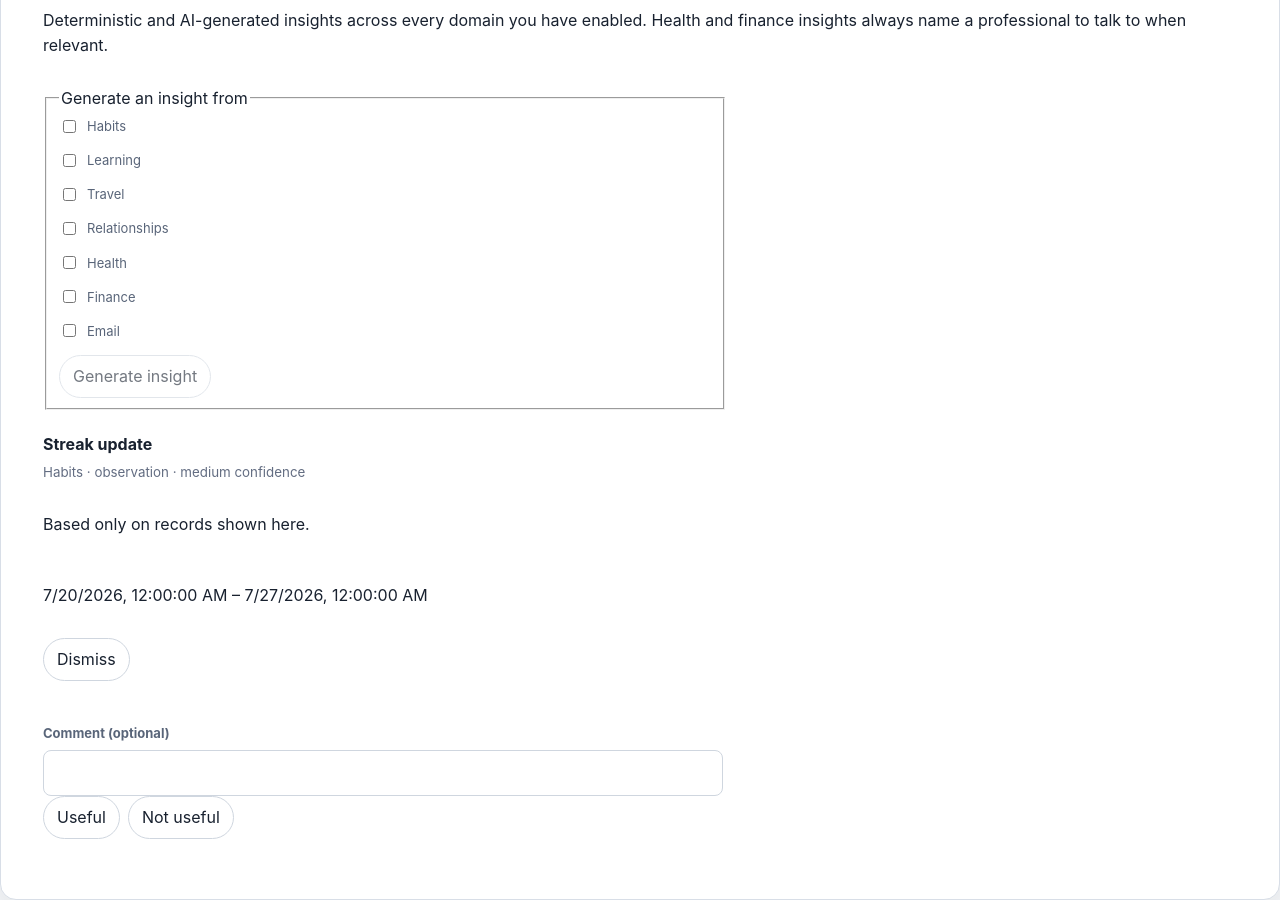
it: InsightsPanel › submits feedback for an insight
The width and height of the screenshot is (1280, 900).
(page scrolled)
Step 1. Click the button "Useful" → [81, 817], box [43,796,120,839]
(page scrolled)
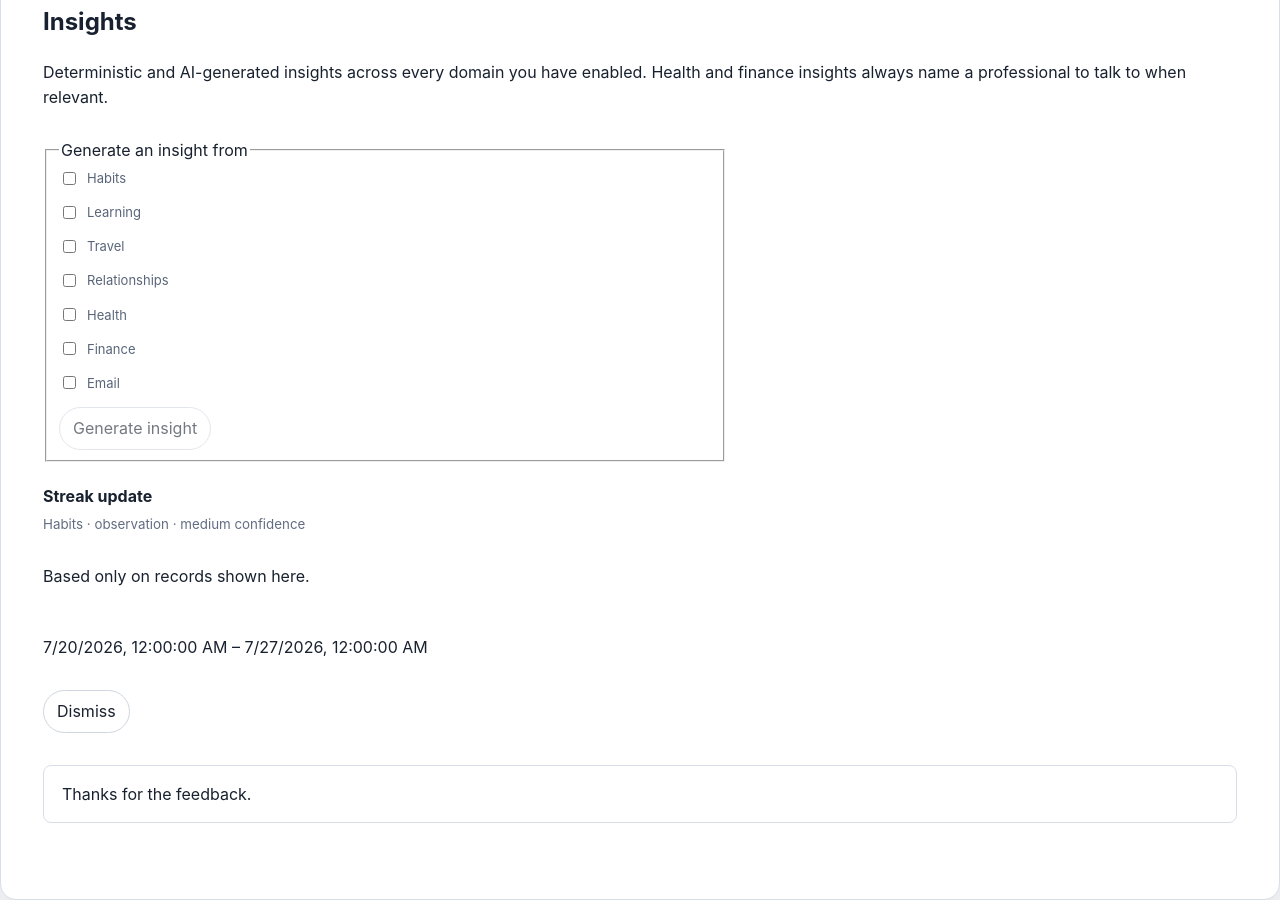
Result: the text "Thanks for the feedback." is shown at [43,765,1237,823]
